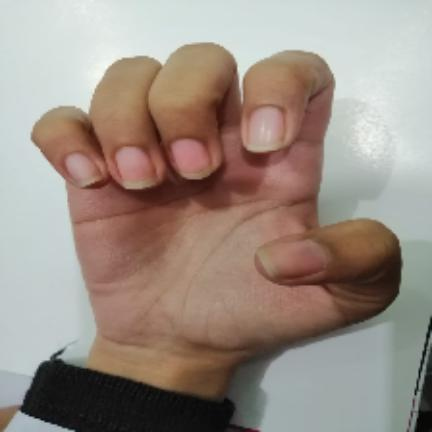Nail: (257, 240, 326, 279), (115, 146, 157, 189), (171, 139, 212, 180), (248, 106, 284, 151), (65, 152, 103, 188)
